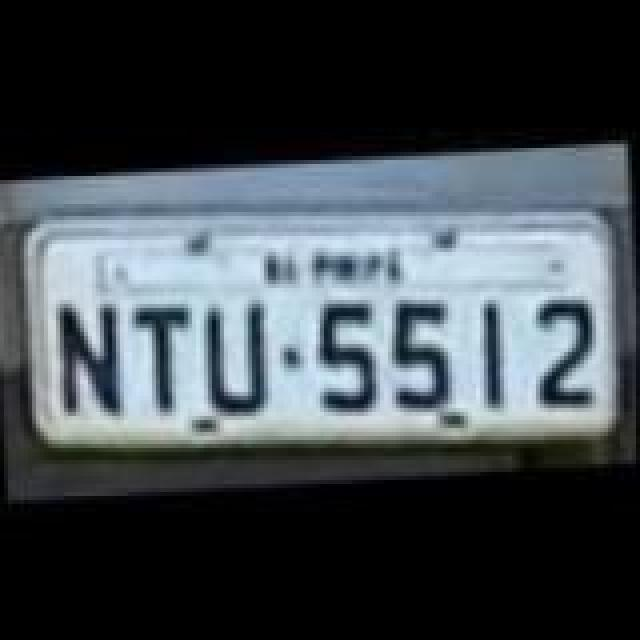1: (478, 296, 510, 404)
2: (530, 294, 602, 410)
5: (386, 294, 458, 410), (316, 298, 384, 418)
N: (52, 292, 136, 420)
T: (132, 298, 200, 410)
U: (202, 304, 274, 424)
